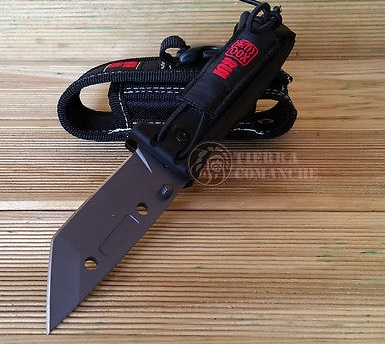knife: (43, 145, 181, 342)
